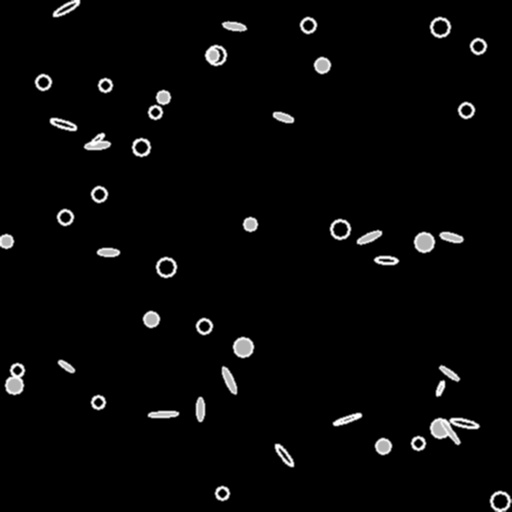pseudomonas: (439, 419, 461, 445), (273, 443, 295, 467), (220, 366, 238, 394), (52, 0, 80, 18), (356, 229, 382, 245), (49, 117, 77, 131), (333, 412, 361, 426), (450, 417, 478, 429), (439, 365, 459, 381), (272, 110, 294, 124), (439, 231, 463, 243), (57, 359, 75, 373), (89, 132, 105, 146), (223, 21, 245, 31), (374, 256, 398, 264), (85, 141, 109, 149), (148, 411, 178, 417), (435, 380, 445, 396), (197, 398, 203, 420), (98, 249, 118, 255)
synechocystis: (157, 258, 175, 276), (234, 338, 252, 356), (431, 18, 449, 36), (207, 46, 225, 64), (431, 419, 449, 437), (415, 233, 433, 251), (491, 492, 509, 510), (331, 220, 349, 238), (6, 377, 22, 393), (133, 139, 149, 155), (301, 18, 315, 32), (376, 439, 390, 453), (315, 58, 329, 72), (144, 312, 158, 326), (92, 187, 106, 201), (471, 39, 485, 53), (36, 75, 50, 89), (459, 103, 473, 117), (197, 319, 211, 333), (58, 210, 72, 224), (216, 487, 228, 499), (157, 91, 169, 103), (149, 106, 161, 118), (206, 49, 218, 61), (412, 437, 424, 449), (99, 79, 111, 91), (92, 396, 104, 408), (0, 235, 12, 247), (244, 218, 256, 230), (11, 364, 23, 376)
